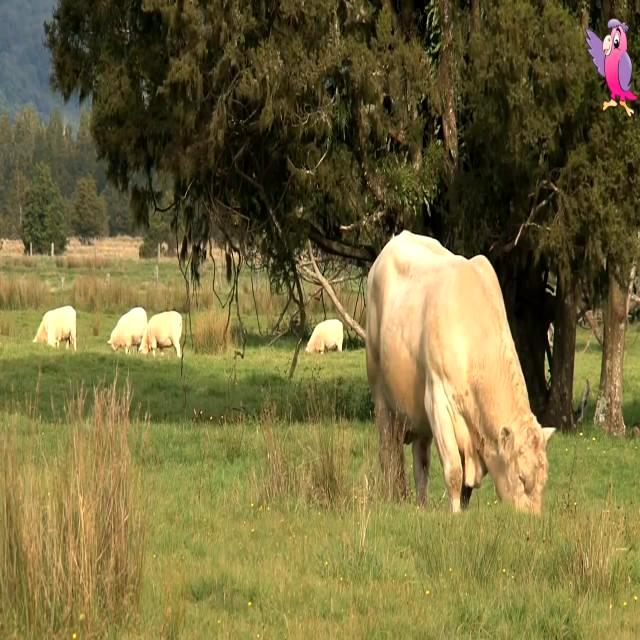COW: (366, 231, 552, 513)
